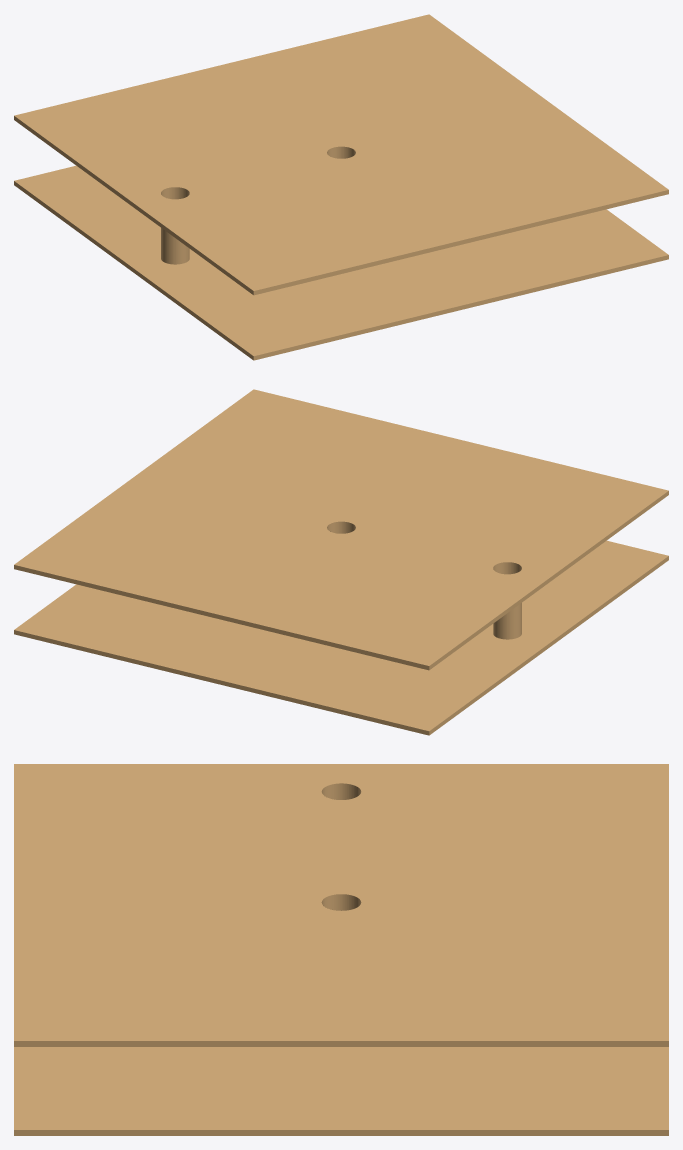
The model's file is board.glb.
3 renders of one model, top to bottom at view 1: azimuth 30°, elevation 25°; view 2: azimuth 150°, elevation 25°; view 3: azimuth 270°, elevation 25°, orthographic. The views are drawn at different scales.
Parts seen in each view (by area): view 1: Substrate_Layer_2_Z0, Substrate_Layer_3_Z0, Contact_1; view 2: Substrate_Layer_2_Z0, Substrate_Layer_3_Z0, Contact_1; view 3: Substrate_Layer_2_Z0, Substrate_Layer_3_Z0.
Boxes of the visible parts, x1=… form: Substrate_Layer_2_Z0: x1=14, y1=14, x2=668, y2=295; Substrate_Layer_3_Z0: x1=14, y1=165, x2=668, y2=360; Contact_1: x1=161, y1=187, x2=189, y2=264; Substrate_Layer_2_Z0: x1=14, y1=389, x2=668, y2=670; Substrate_Layer_3_Z0: x1=14, y1=540, x2=668, y2=735; Contact_1: x1=493, y1=562, x2=521, y2=639; Substrate_Layer_2_Z0: x1=14, y1=764, x2=668, y2=1046; Substrate_Layer_3_Z0: x1=14, y1=1047, x2=668, y2=1135.
Size of the model in its own units: 0.01 by 0.0016 by 0.01.
